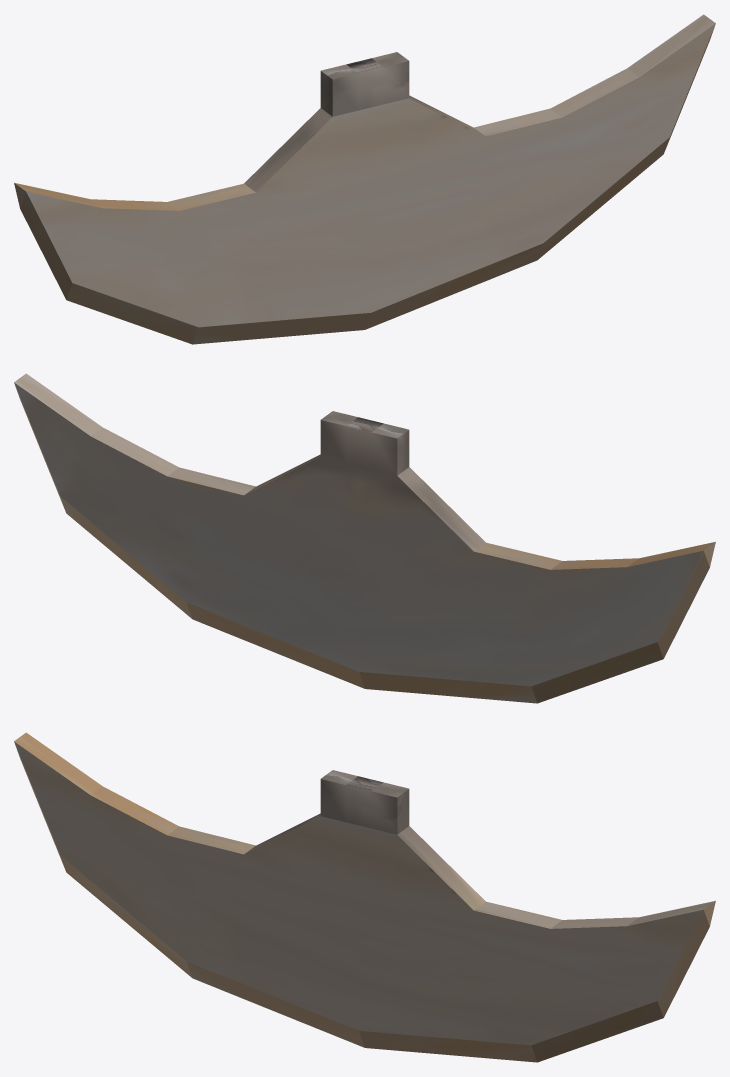
File: bicak_ucu.fbx
The picture shows the model from 3 angles, top to bottom: view 1: azimuth 30°, elevation 25°; view 2: azimuth 150°, elevation 25°; view 3: azimuth 330°, elevation 25°; orthographic projection.
Visible parts, largest first — view 1: sallanan bicak.004; view 2: sallanan bicak.004; view 3: sallanan bicak.004.
Boxes of the visible parts, x1=… form: sallanan bicak.004: x1=14, y1=14, x2=715, y2=344; sallanan bicak.004: x1=14, y1=373, x2=715, y2=703; sallanan bicak.004: x1=14, y1=732, x2=715, y2=1062.
Bounding box in the file's own units: 8.48 × 3.1 × 0.2604.
